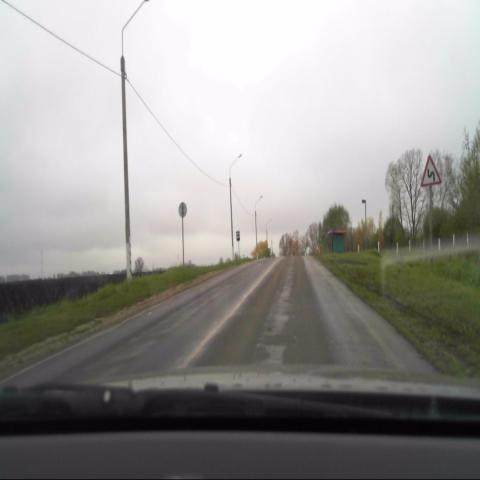1_12_2: (419, 153, 441, 186)
